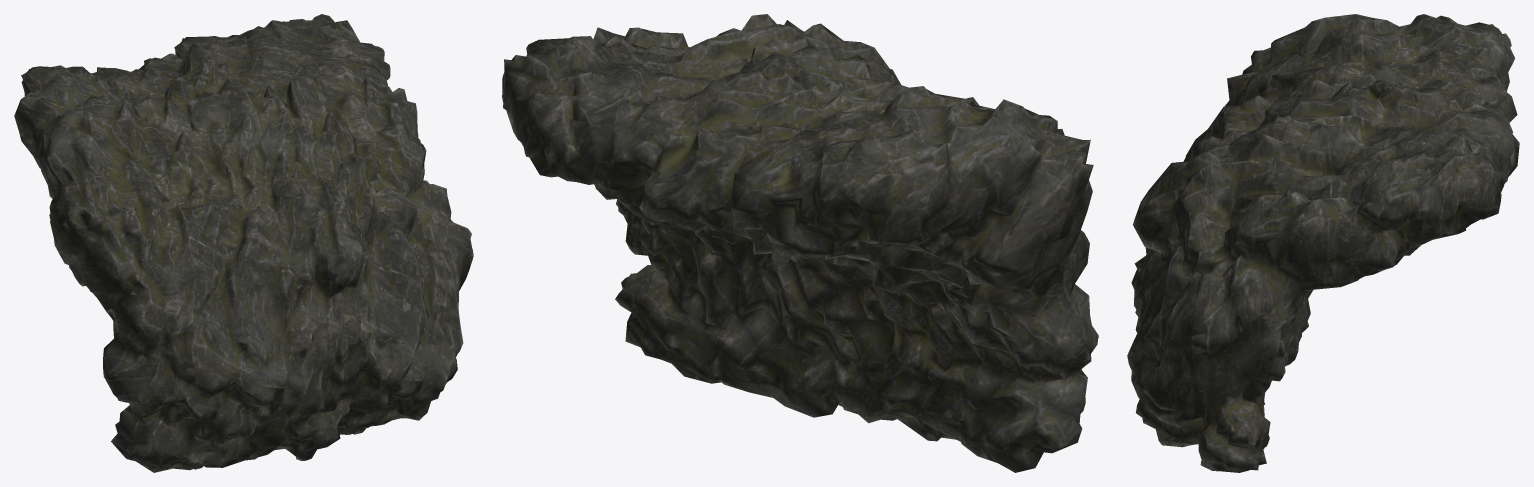
Rendered from SM_RockWall_E.fbx.
The picture shows the model from 3 angles, left to right: view 1: azimuth 30°, elevation 25°; view 2: azimuth 150°, elevation 25°; view 3: azimuth 270°, elevation 25°; orthographic projection. The views are drawn at different scales.
Parts seen in each view (by area): view 1: SM_RockWall_E_LOD0; view 2: SM_RockWall_E_LOD0; view 3: SM_RockWall_E_LOD0.
Part boxes in pixels (x1=…): SM_RockWall_E_LOD0: x1=14, y1=14, x2=473, y2=472; SM_RockWall_E_LOD0: x1=502, y1=14, x2=1098, y2=472; SM_RockWall_E_LOD0: x1=1127, y1=14, x2=1519, y2=472.
Bounding box in the file's own units: 1550 × 1372 × 1301.
